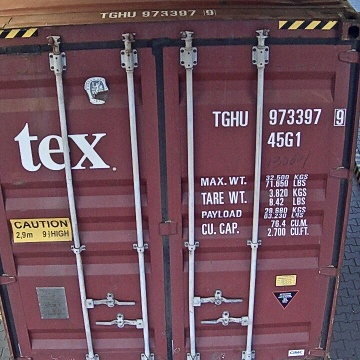serial_id: (212, 108, 345, 126)
